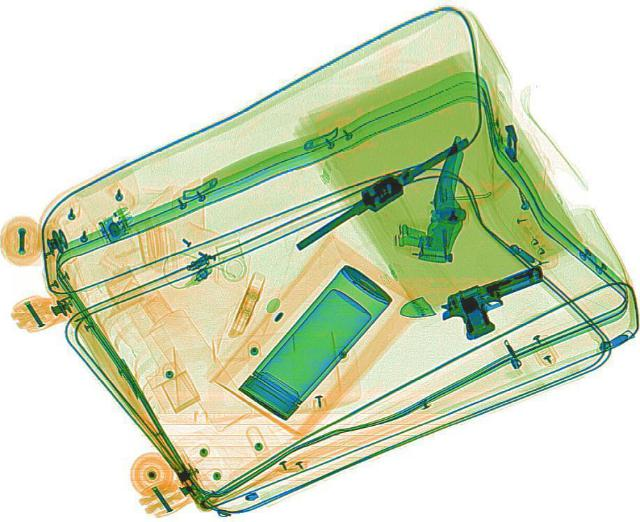Gun: (428, 261, 566, 343)
